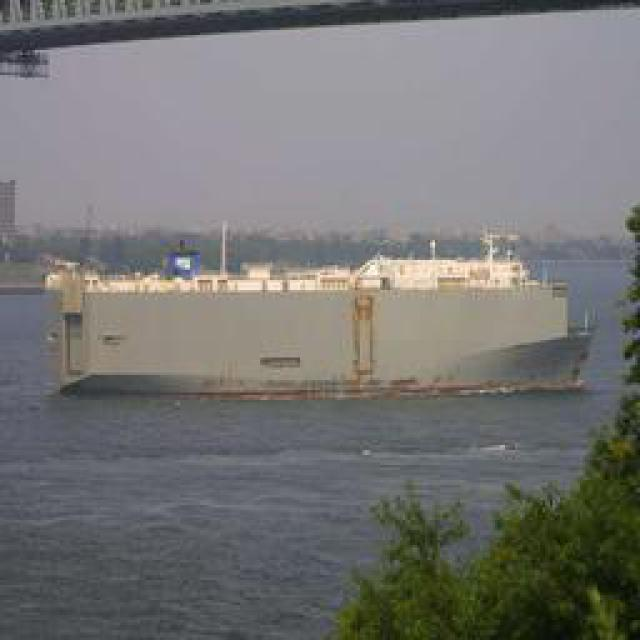Ship: (45, 259, 603, 399)
